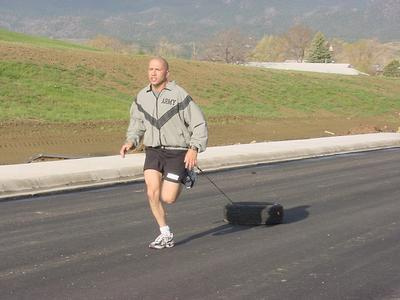person: (119, 59, 210, 250)
